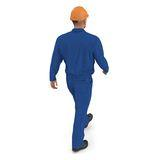helmet: (71, 7, 90, 22)
